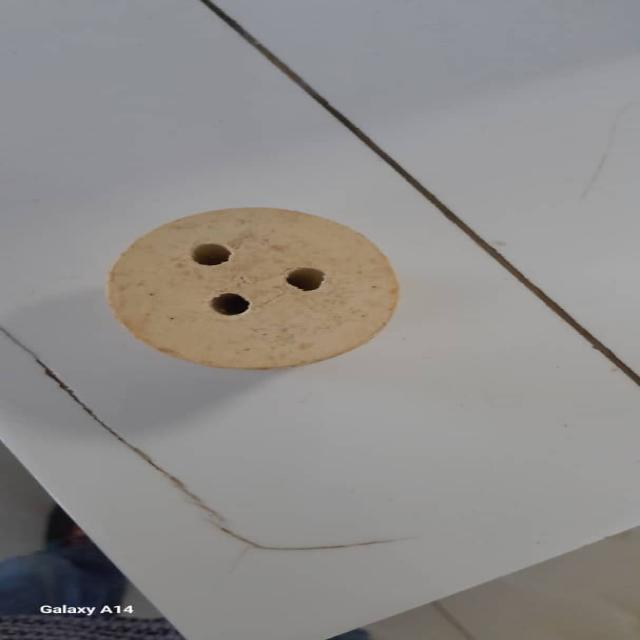Stopper: (102, 200, 395, 375)
